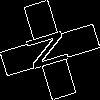N: (25, 25, 79, 73)
